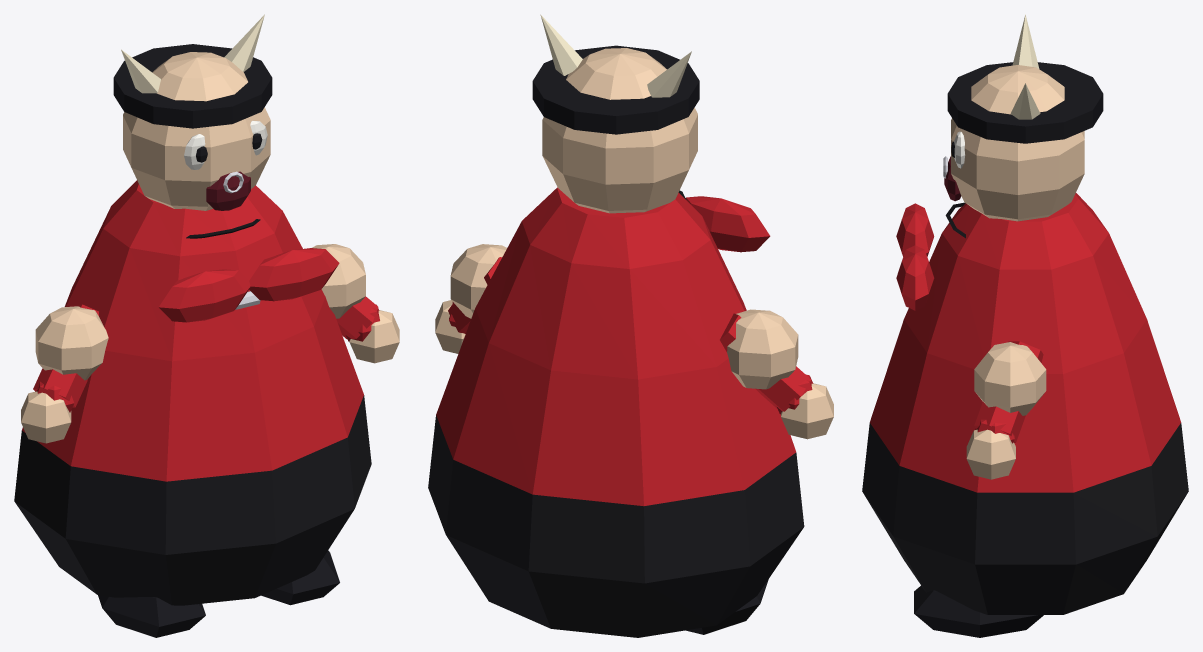
The model's file is npc_toro.glb.
3 renders of one model, left to right at view 1: azimuth 30°, elevation 25°; view 2: azimuth 150°, elevation 25°; view 3: azimuth 270°, elevation 25°, orthographic. The views are drawn at different scales.
Visible parts, largest first — view 1: body_tank_red, body_shorts_black, head_skin_crema, arms_skin_crema, cap_black, legs_black, arms_tank_red, cap_horn_ivory (×2), face_mouth, face_white; view 2: body_tank_red, body_shorts_black, head_skin_crema, arms_skin_crema, cap_black, arms_tank_red, cap_horn_ivory (×2), legs_black; view 3: body_tank_red, body_shorts_black, head_skin_crema, cap_black, arms_skin_crema, legs_black, arms_tank_red, cap_horn_ivory (×2).
Part boxes in pixels (box(x1,y1,x2,y2)): body_tank_red: box(22, 180, 363, 481); body_shorts_black: box(14, 395, 371, 605); head_skin_crema: box(123, 52, 270, 210); arms_skin_crema: box(21, 244, 399, 443); cap_black: box(113, 44, 272, 128); legs_black: box(98, 550, 339, 637); arms_tank_red: box(33, 296, 379, 412); cap_horn_ivory (×2): box(121, 14, 264, 93); face_mouth: box(206, 171, 250, 210); face_white: box(184, 120, 267, 169); body_tank_red: box(436, 187, 795, 506); body_shorts_black: box(428, 415, 804, 637); head_skin_crema: box(542, 48, 697, 213); arms_skin_crema: box(435, 244, 833, 439); cap_black: box(532, 45, 699, 134); arms_tank_red: box(448, 257, 813, 414); cap_horn_ivory (×2): box(540, 14, 691, 97); legs_black: box(685, 579, 768, 634); body_tank_red: box(870, 193, 1180, 492); body_shorts_black: box(862, 423, 1188, 614); head_skin_crema: box(951, 65, 1084, 221); cap_black: box(947, 62, 1103, 143); arms_skin_crema: box(966, 342, 1046, 479); legs_black: box(914, 585, 1043, 637); arms_tank_red: box(974, 341, 1043, 443); cap_horn_ivory (×2): box(1010, 14, 1040, 119).
Bounding box in the file's own units: 1.13 × 1.6 × 0.86.
